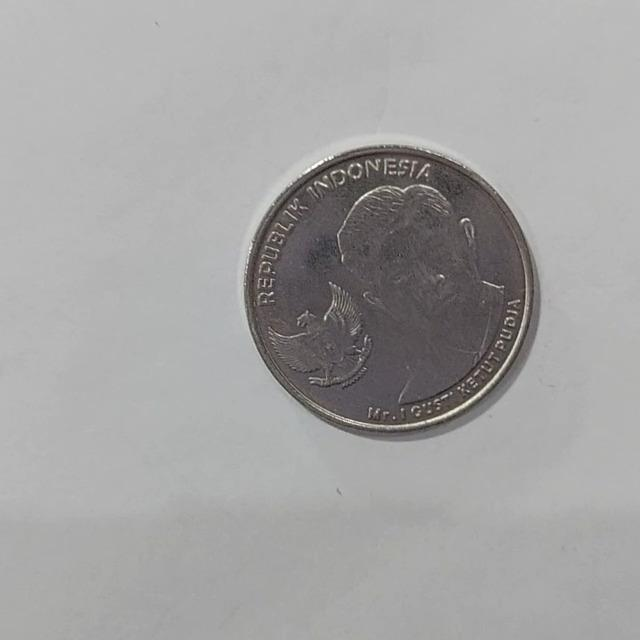Rp100: (241, 136, 538, 438)
